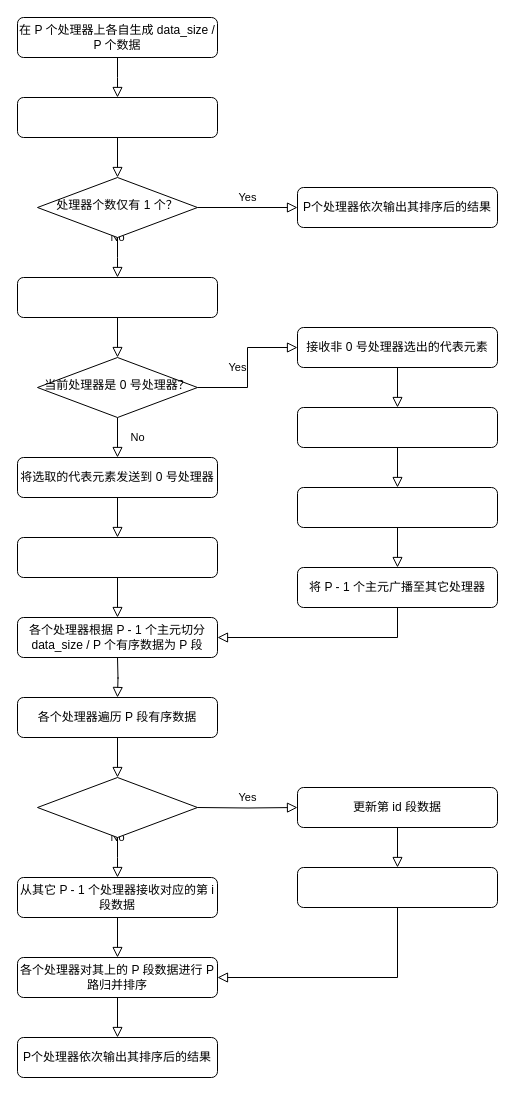
Some shapes in this 515 by 1095 pixel diagram are drawn without their labels. Each missing label, with the centre of its shape:
从排好序的序列中均匀选择 P - 1 个数据作为主元: (397,507)
在 P 个处理器上对各自的 data_size / P 个数据进行快速排序: (117,117)
对接收到的 P 段有序的数据排序: (397,427)
接收 0 号处理器排序接收到的数据后选出的 P - 1 个主元: (117,557)
每个处理器从排好序的序列中均匀选择 P - 1 个数据作为代表元素: (117,297)
编号 id 的处理器 遍历到第 i = id 段？: (117,807)
遍历全部满足 i != id 的数据段 i 并将其发送到第 i 个处理器: (397,887)
